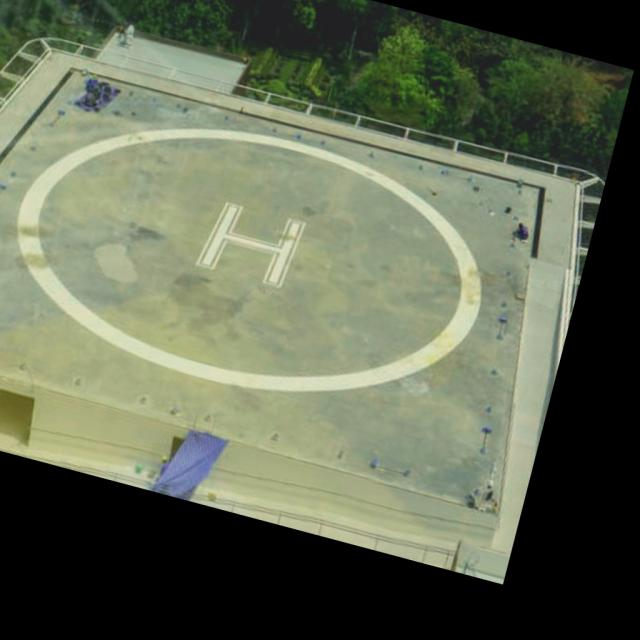helipad: (12, 118, 486, 401)
